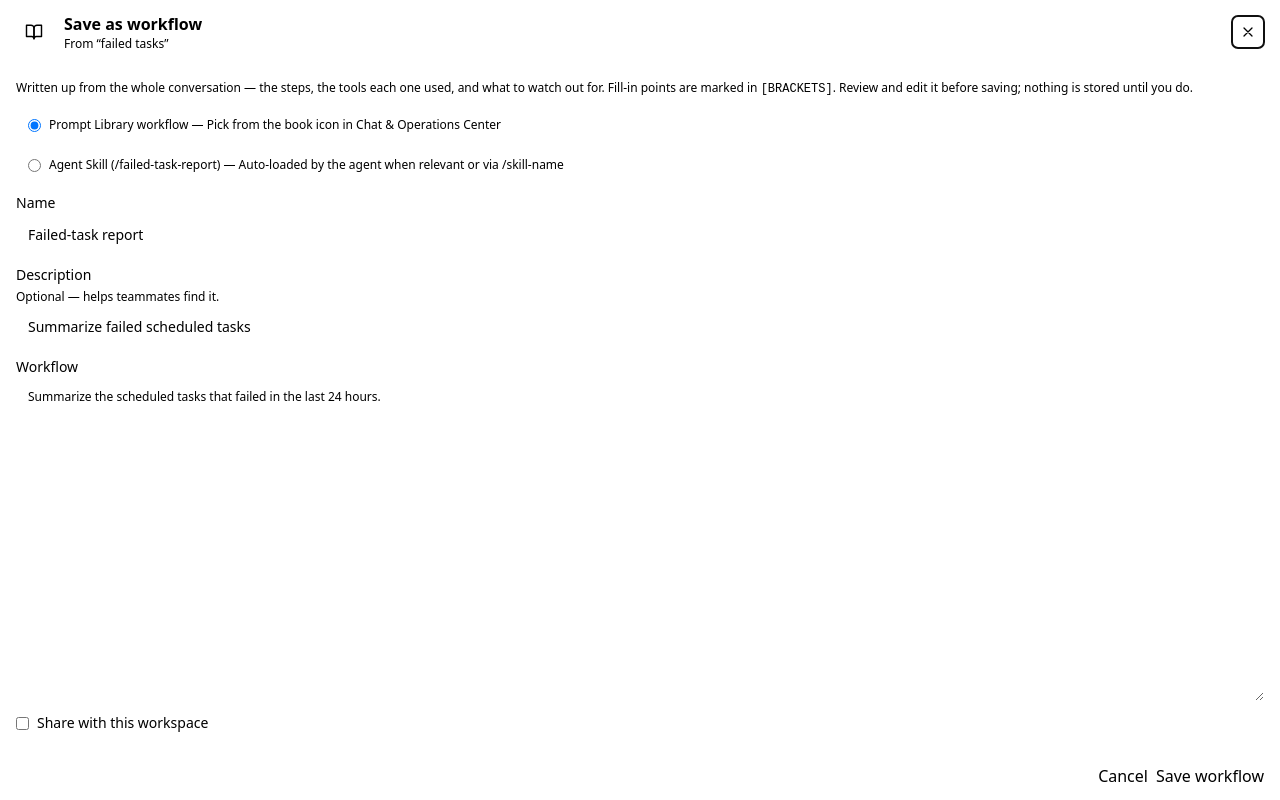
SavePromptDialog › distills on open, prefills the form, and saves the edited draft as private
The image size is (1280, 800).
Replace the text in the field showing "Failed-task report" with "Daily failure digest": {"x": 640, "y": 235} [16,217,1264,253]
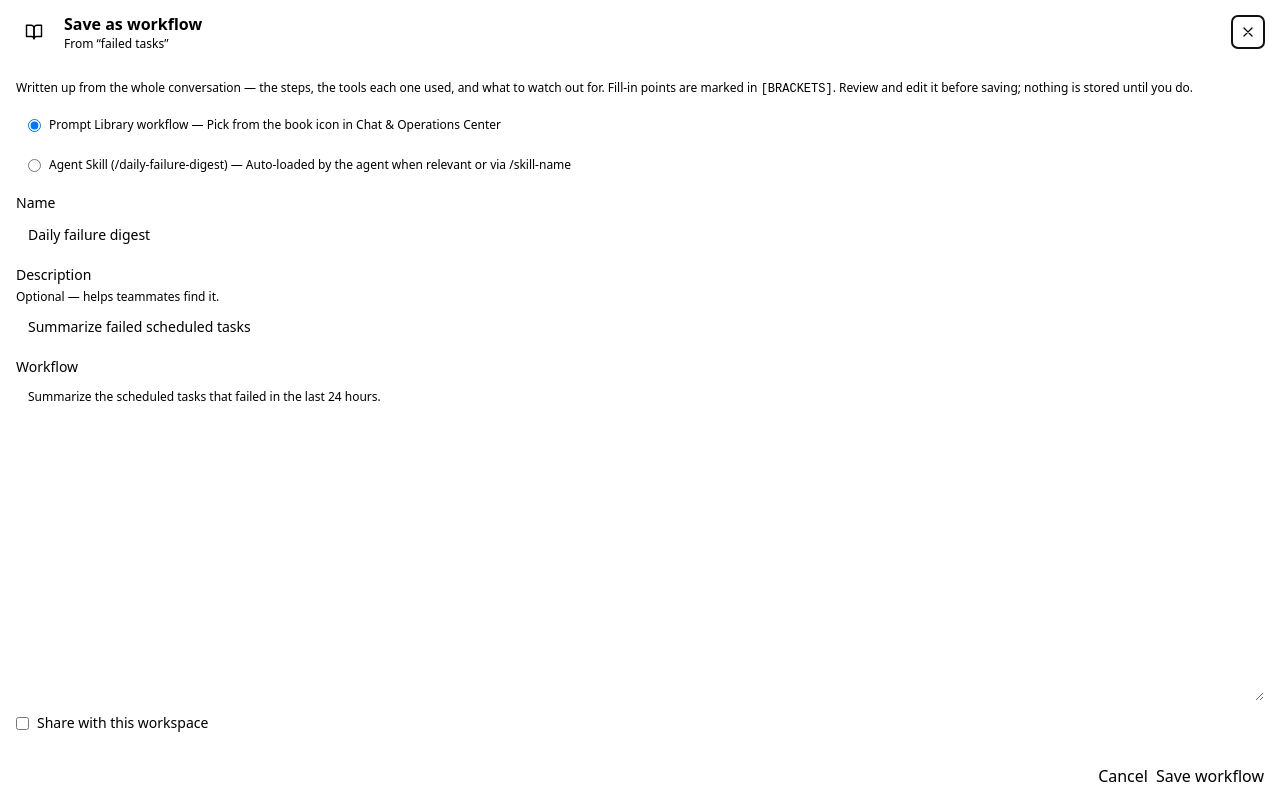
Click the button "Save workflow": {"x": 1210, "y": 776} [1156,764,1264,788]
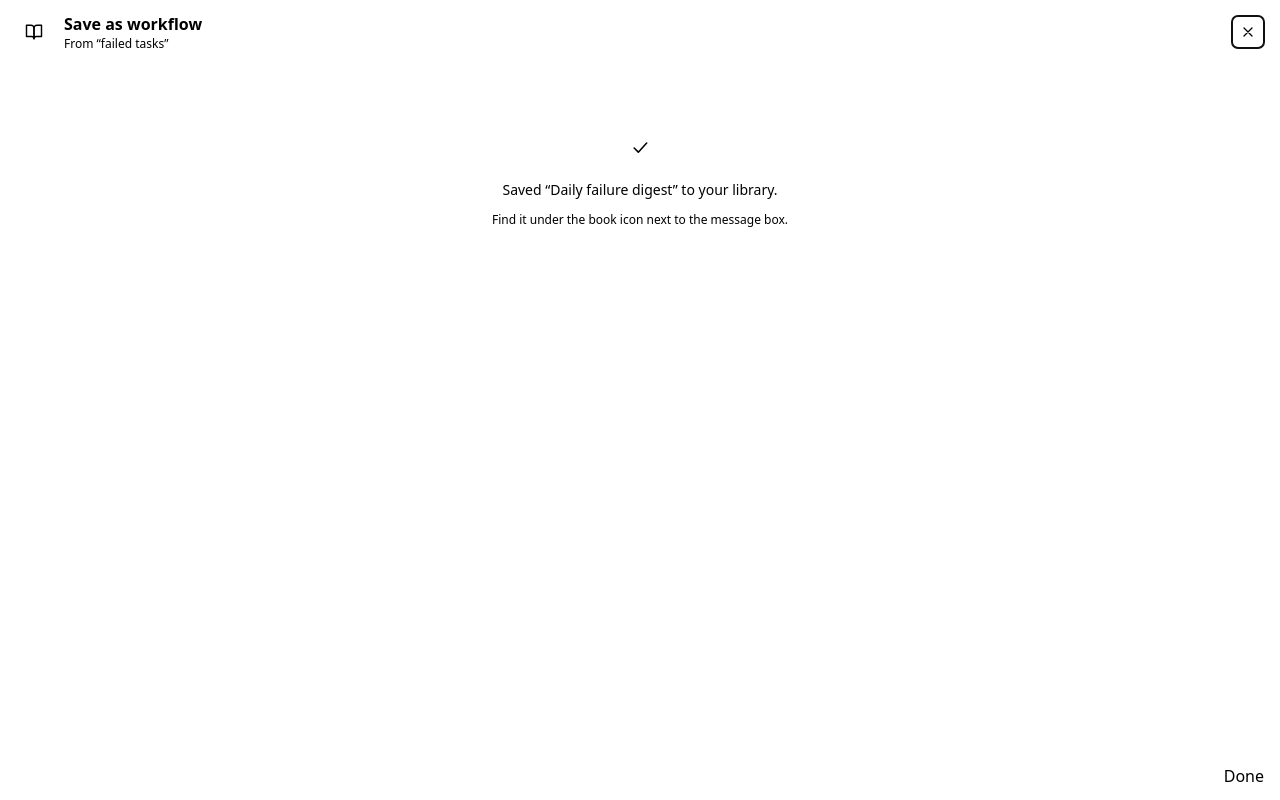
expect the element with test id "save-prompt-saved" is shown: met, box [492,138,788,228]
